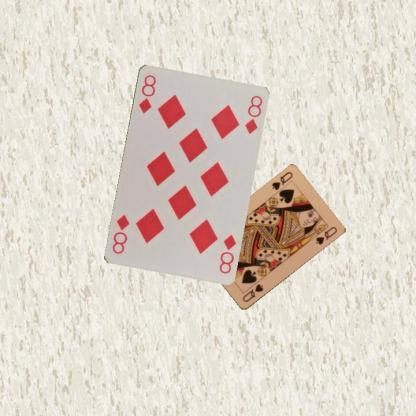8d: (216, 232, 238, 276), (136, 72, 158, 115)
Qs: (269, 169, 294, 192), (240, 281, 264, 304)
